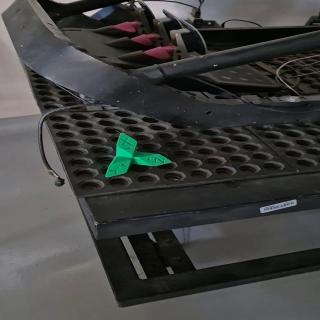eje: (104, 132, 173, 178)
